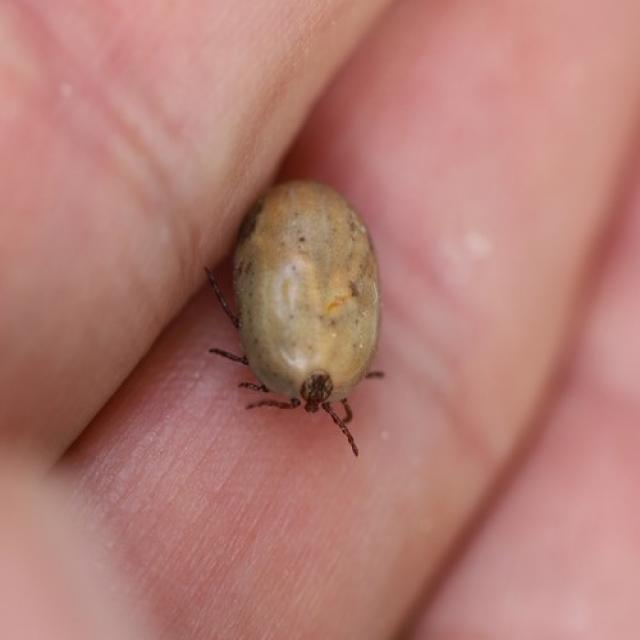Dermacentor Reticulatus-F-Fed: (204, 178, 385, 456)
